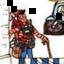waldo: (13, 8, 27, 23)
